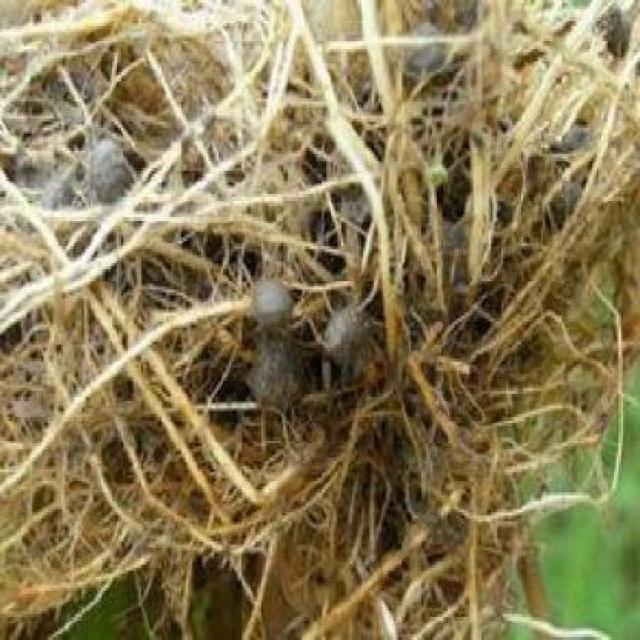rice-bug: (244, 242, 310, 421), (316, 277, 378, 398)
